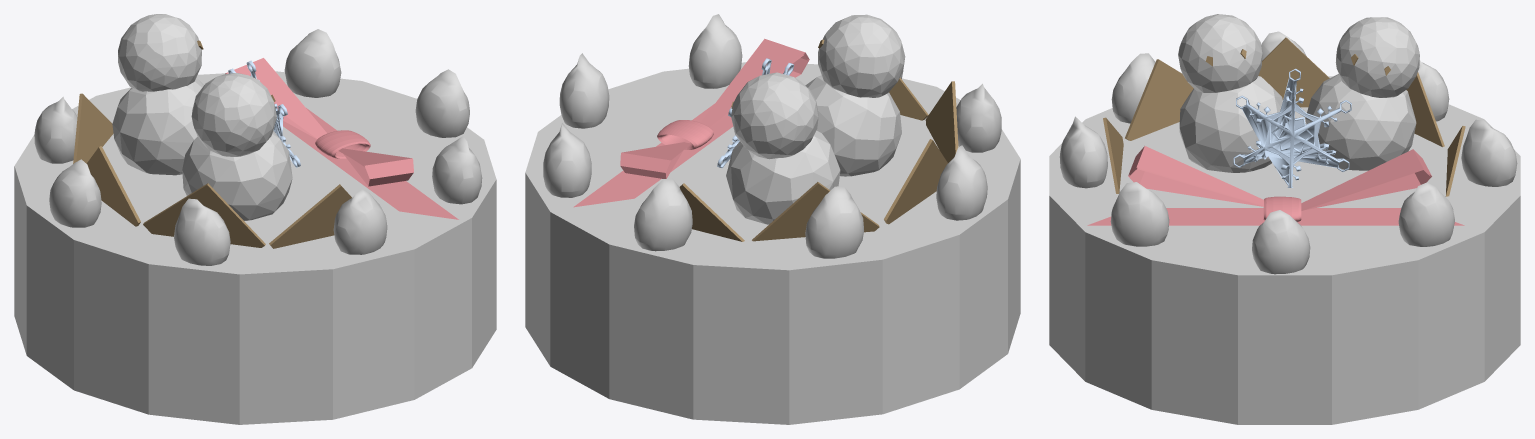
Rendered from XmasCake.fbx.
3 views of the same model, side by side, from view 1: azimuth 30°, elevation 25°; view 2: azimuth 150°, elevation 25°; view 3: azimuth 270°, elevation 25° (orthographic). The views are drawn at different scales.
Parts seen in each view (by area): view 1: Cylinder; view 2: Cylinder; view 3: Cylinder.
Part boxes in pixels (x1,y1,x2,y2): Cylinder: [14, 14, 496, 424]; Cylinder: [525, 14, 1020, 424]; Cylinder: [1049, 14, 1520, 424].
Size of the model in its own units: 244 by 161 by 243.
